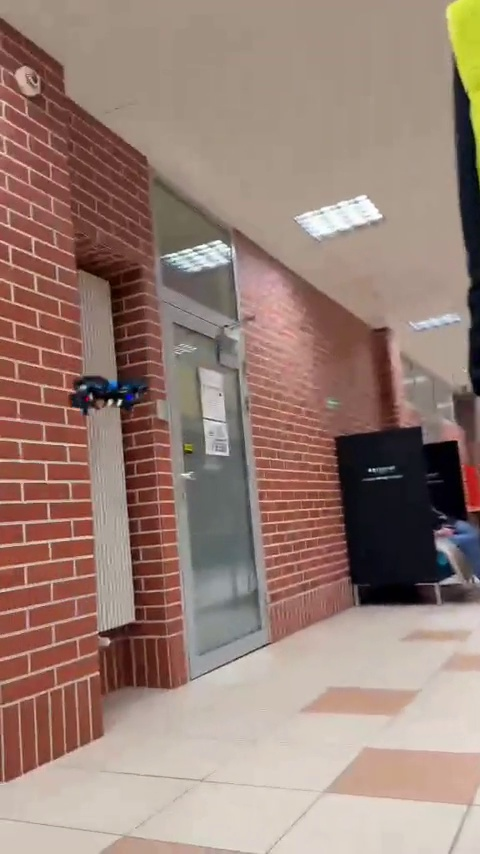drone: (62, 369, 159, 409)
